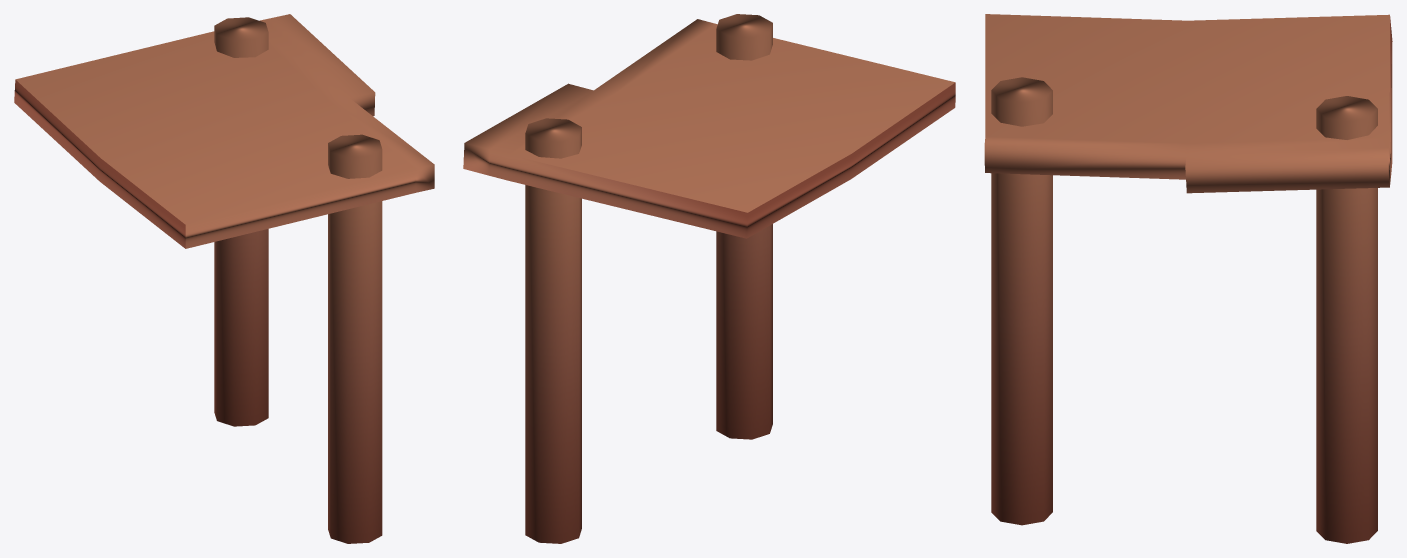
The model's file is WoodScaffolding03.fbx.
3 renders of one model, left to right at view 1: azimuth 30°, elevation 25°; view 2: azimuth 150°, elevation 25°; view 3: azimuth 270°, elevation 25°, orthographic. The views are drawn at different scales.
Parts seen in each view (by area): view 1: WoodScaffolding03; view 2: WoodScaffolding03; view 3: WoodScaffolding03.
Part boxes in pixels (bbox=[...]): WoodScaffolding03: bbox=[14, 14, 434, 543]; WoodScaffolding03: bbox=[463, 14, 955, 543]; WoodScaffolding03: bbox=[984, 14, 1392, 543].
Bounding box in the file's own units: 0.4431 × 0.5672 × 0.4968.
1 material, 1 textured.
